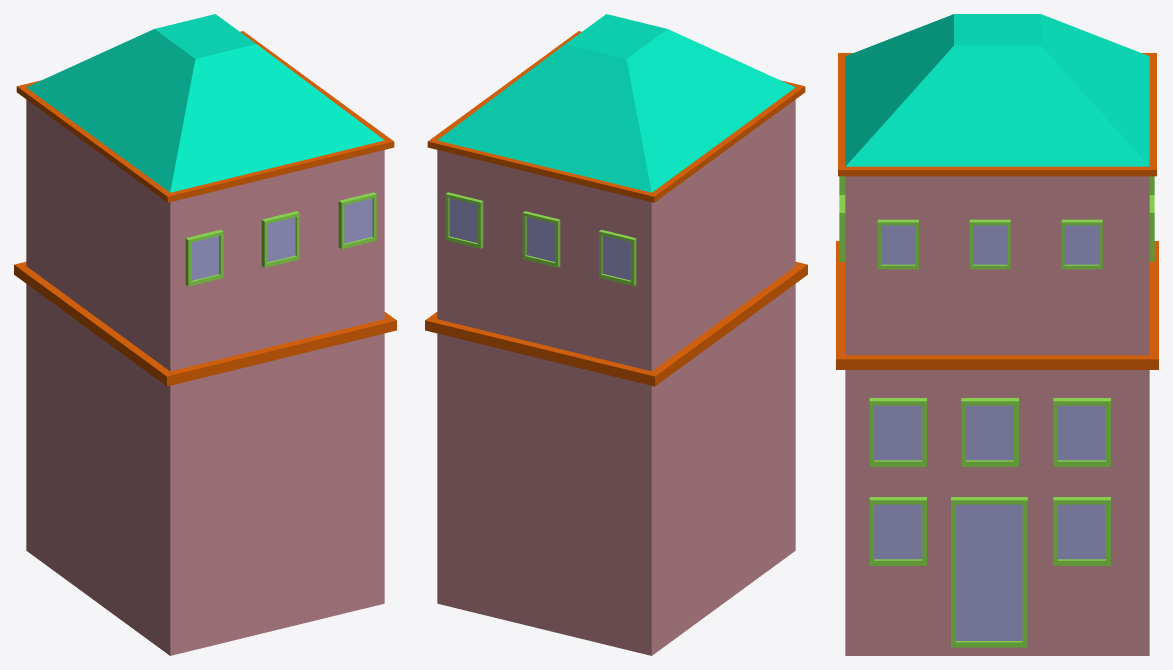
The model's file is blueRoof.fbx.
3 views of the same model, side by side, from view 1: azimuth 30°, elevation 25°; view 2: azimuth 150°, elevation 25°; view 3: azimuth 270°, elevation 25° (orthographic). The views are drawn at different scales.
Parts seen in each view (by area): view 1: group12; view 2: group12; view 3: group12.
Boxes of the visible parts, x1,y1,x2,y2 form: group12: [14, 14, 396, 655]; group12: [425, 14, 807, 655]; group12: [836, 14, 1158, 655].
Bounding box in the file's own units: 332 × 746 × 382.
